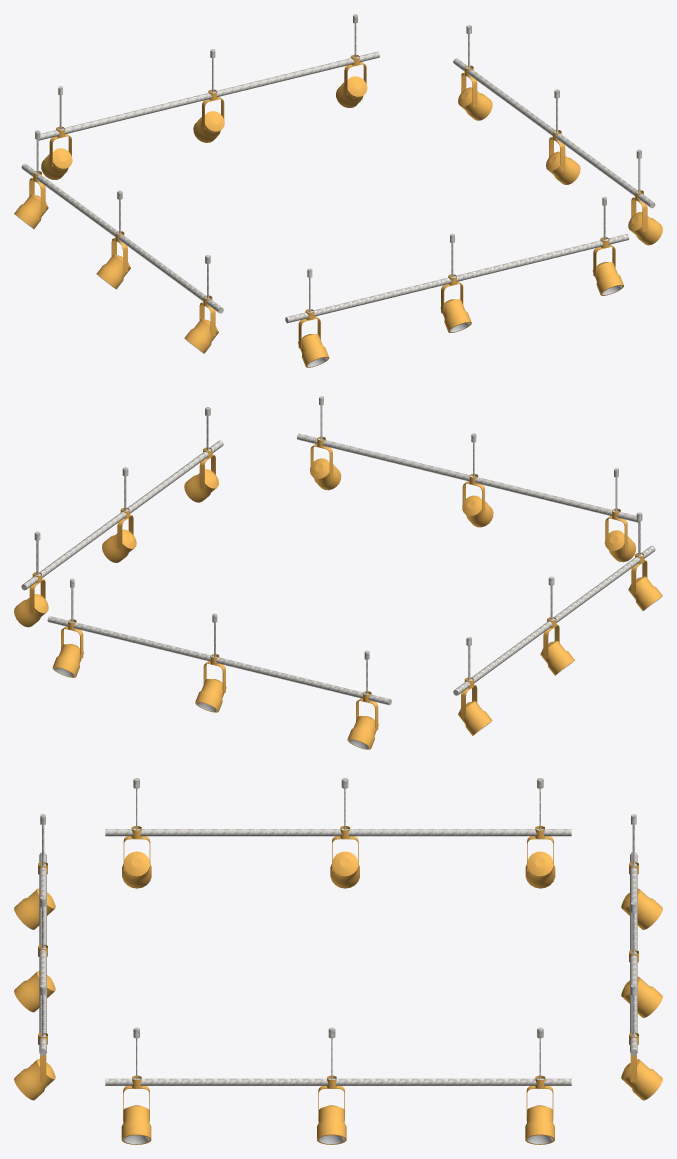
Rendered from MeshBaker (0)-mesh-mesh.fbx.
3 renders of one model, top to bottom at view 1: azimuth 30°, elevation 25°; view 2: azimuth 150°, elevation 25°; view 3: azimuth 270°, elevation 25°, orthographic. The views are drawn at different scales.
Visible parts, largest first — view 1: MeshBaker__0__mesh_mesh; view 2: MeshBaker__0__mesh_mesh; view 3: MeshBaker__0__mesh_mesh.
Boxes of the visible parts, left/top/right/bottom form: MeshBaker__0__mesh_mesh: left=14, top=14, right=662, bottom=367; MeshBaker__0__mesh_mesh: left=14, top=396, right=662, bottom=749; MeshBaker__0__mesh_mesh: left=14, top=778, right=662, bottom=1144.
Size of the model in its own units: 2028 by 388 by 2028.
